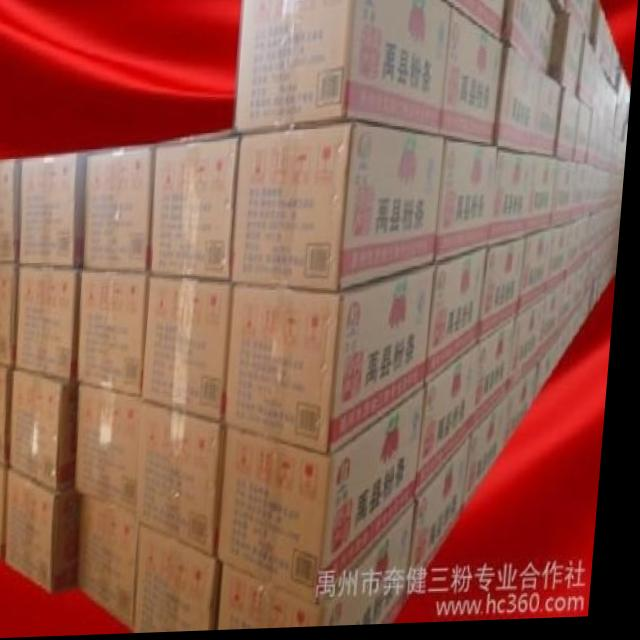box: (227, 389, 432, 603), (232, 267, 439, 456), (235, 125, 446, 294), (237, 0, 450, 137), (229, 505, 424, 630), (152, 129, 240, 283), (147, 403, 233, 560), (148, 279, 237, 423), (420, 439, 478, 596), (143, 526, 228, 633), (84, 272, 156, 398), (425, 348, 485, 499), (87, 147, 158, 274), (15, 468, 86, 592), (86, 495, 149, 631), (442, 11, 504, 149), (17, 369, 84, 494), (84, 387, 146, 520), (433, 252, 491, 388), (20, 267, 86, 386), (23, 152, 90, 269), (439, 143, 501, 267), (470, 397, 516, 517), (484, 242, 531, 347), (479, 325, 520, 438), (499, 50, 541, 156), (494, 155, 534, 250), (521, 235, 556, 321), (518, 303, 548, 394), (447, 0, 506, 44), (507, 0, 544, 69), (535, 75, 564, 161), (514, 367, 544, 450), (530, 161, 561, 240), (0, 159, 23, 263), (0, 262, 22, 367), (0, 365, 20, 465), (563, 20, 585, 103), (548, 286, 572, 358), (0, 460, 17, 561), (558, 92, 581, 165), (554, 167, 579, 233), (536, 0, 556, 80), (544, 337, 570, 398), (553, 232, 575, 298), (566, 0, 590, 34), (557, 0, 566, 15)
